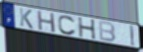B: (98, 20, 117, 43)
C: (58, 14, 77, 36)
H: (77, 17, 98, 41), (36, 10, 57, 34)
I: (129, 25, 135, 48)
K: (18, 7, 34, 31)
